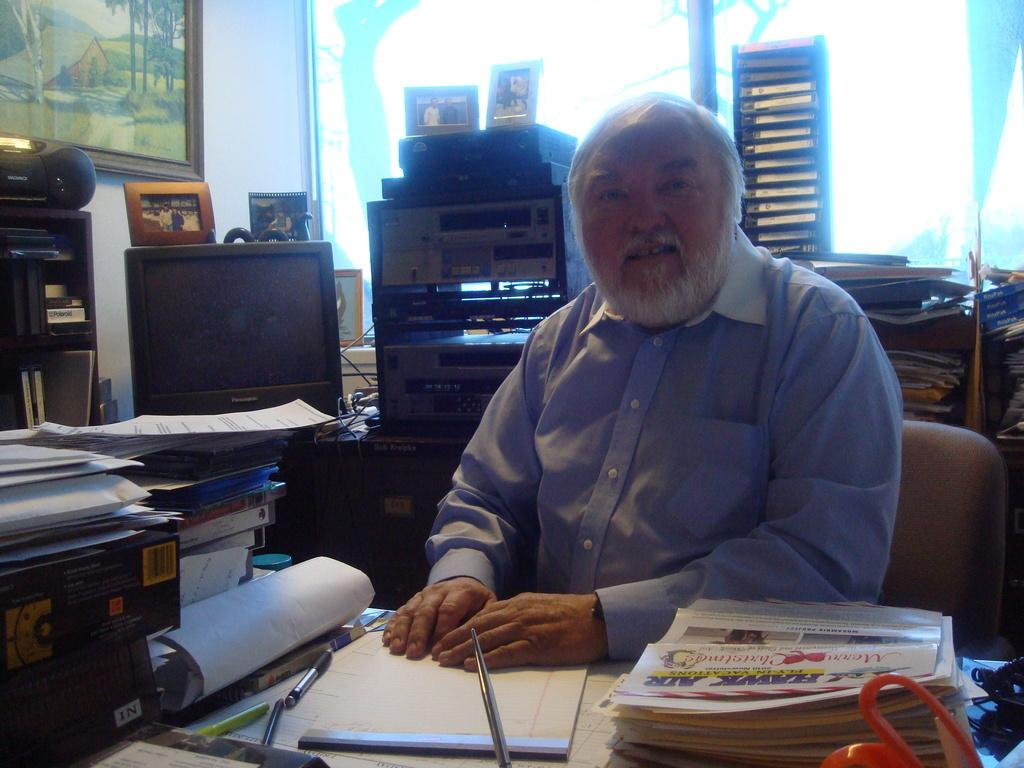Chair: (878, 418, 1009, 659)
Computer-monitor: (120, 236, 346, 422)
